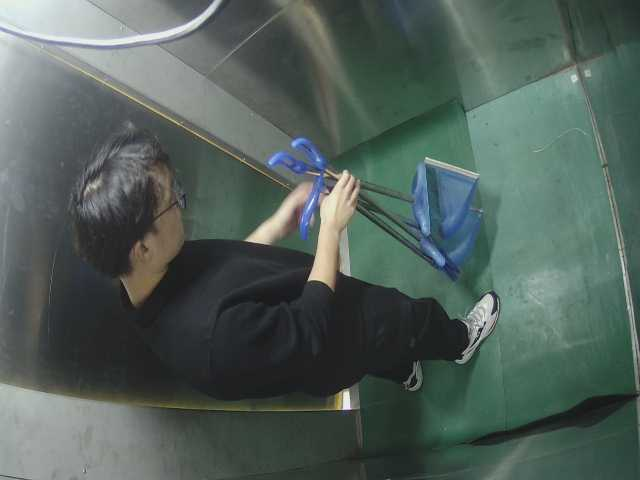broom: (254, 117, 517, 284)
person: (61, 124, 513, 399)
